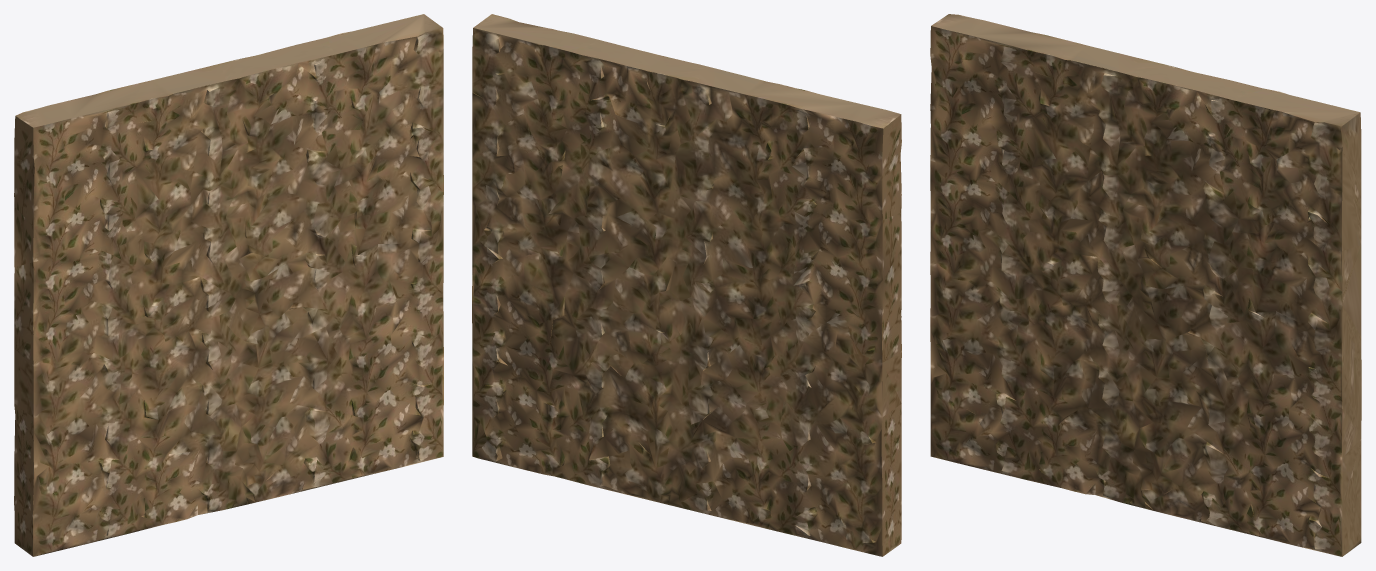
The model's file is finish_wallpaper_ok_idle.glb.
3 renders of one model, left to right at view 1: azimuth 30°, elevation 25°; view 2: azimuth 150°, elevation 25°; view 3: azimuth 330°, elevation 25°, orthographic.
Parts seen in each view (by area): view 1: tripo_node_0dd3d783-51a9-49c3-9aad-76ac35b467bd; view 2: tripo_node_0dd3d783-51a9-49c3-9aad-76ac35b467bd; view 3: tripo_node_0dd3d783-51a9-49c3-9aad-76ac35b467bd.
Boxes of the visible parts, x1,y1,x2,y2 form: tripo_node_0dd3d783-51a9-49c3-9aad-76ac35b467bd: (14,14,443,556); tripo_node_0dd3d783-51a9-49c3-9aad-76ac35b467bd: (472,14,901,556); tripo_node_0dd3d783-51a9-49c3-9aad-76ac35b467bd: (930,14,1361,556).
Bounding box in the file's own units: 0.9996 × 1 × 0.0994.
1 material, 1 textured.
